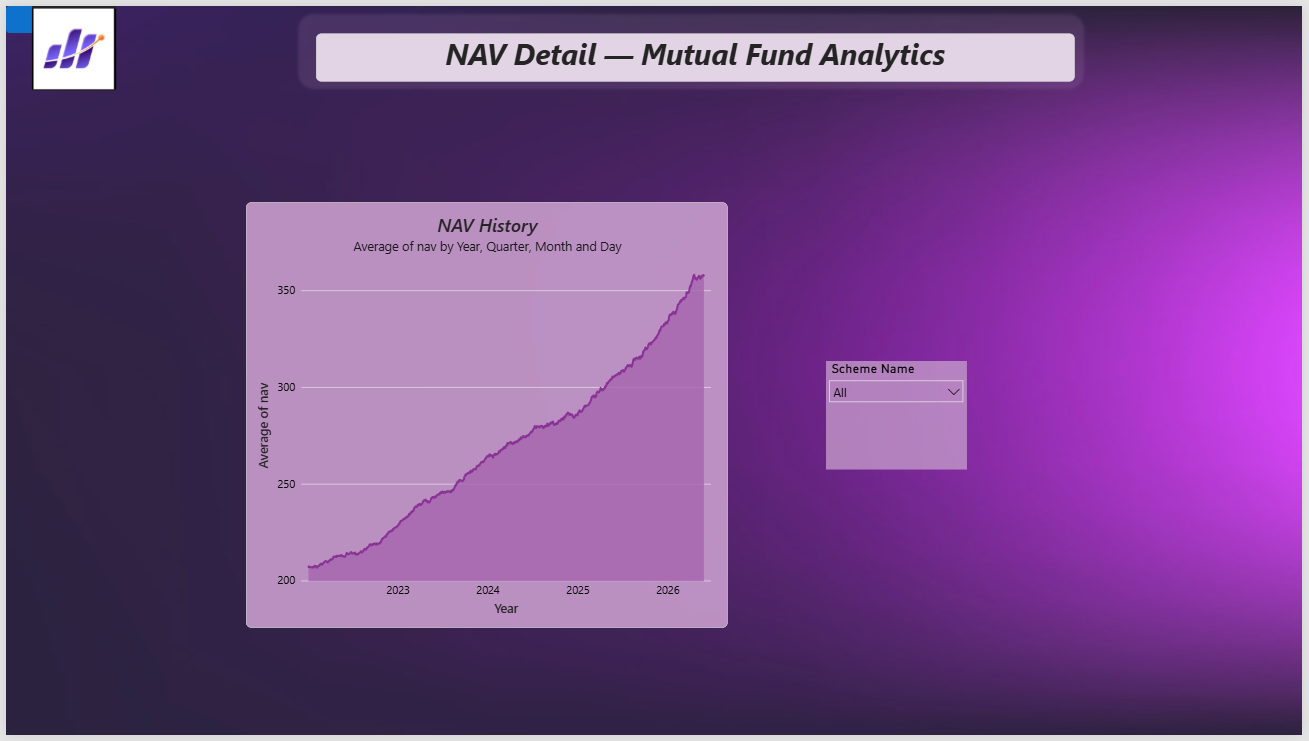

This screenshot's page, from the dashboard's own definition file:
{"tool":"powerbi","page":{"name":"NAV Detail","canvas":[1920,1080],"ordinal":4},"visuals":[{"type":"actionButton","box":[0,0,100,40],"z":0},{"type":"lineChart","title":"NAV History","fields":{"Category":["02_nav_history.date.Variation.Date Hierarchy.Year","02_nav_history.date.Variation.Date Hierarchy.Quarter","02_nav_history.date.Variation.Date Hierarchy.Month","02_nav_history.date.Variation.Date Hierarchy.Day"],"Y":["Avg(02_nav_history.nav)"]},"box":[355.9,291.5,713.6,630.5],"z":1},{"type":"slicer","fields":{"Values":["fund_scorecard.scheme_name"]},"box":[1215.3,525.4,208.5,161],"z":2},{"type":"image","box":[28.8,0,142.4,125.4],"z":3},{"type":"textbox","box":[459.3,40.7,1123.7,71.2],"z":4}]}

Visuals, with their boxes in screenshot pixels (x1, y1, x2, y2), scaled from the page's 1920x1080 canvas onto the 1309x741 screenshot:
actionButton: select_region(0, 0, 68, 27)
"NAV History" lineChart: select_region(243, 200, 729, 633)
slicer - fund_scorecard.scheme_name: select_region(829, 360, 971, 471)
image: select_region(20, 0, 117, 86)
textbox: select_region(313, 28, 1079, 77)
